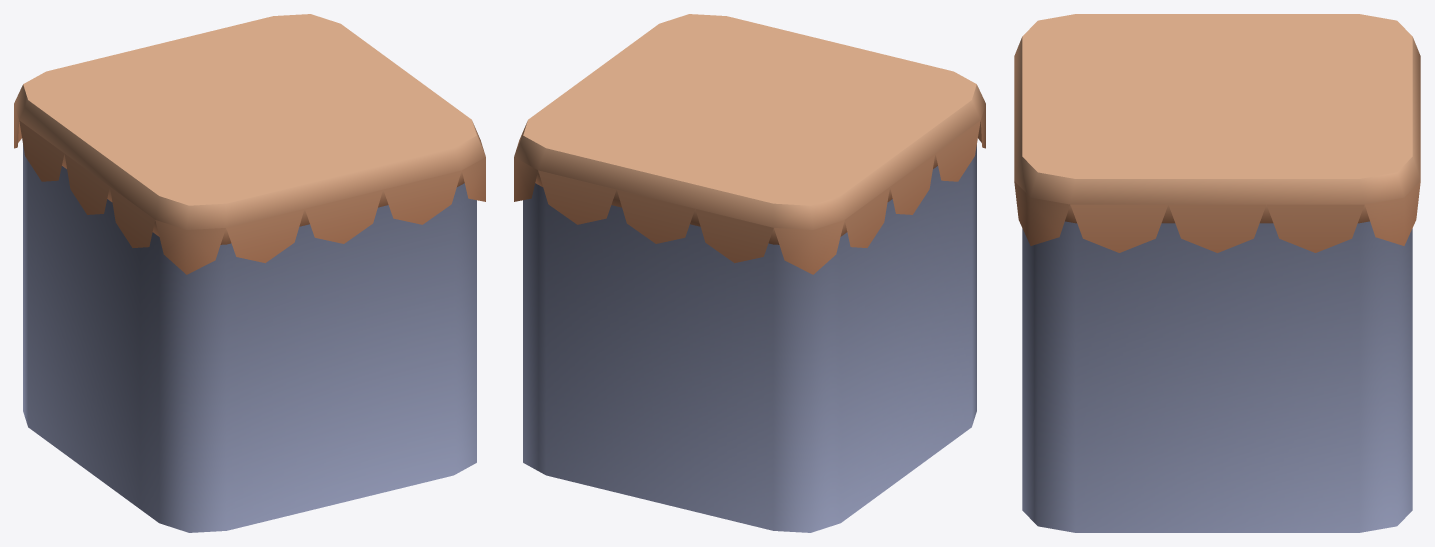
The model's file is block-grass-overhang-large-tall.glb.
3 renders of one model, left to right at view 1: azimuth 30°, elevation 25°; view 2: azimuth 150°, elevation 25°; view 3: azimuth 270°, elevation 25°, orthographic. The views are drawn at different scales.
Visible parts, largest first — view 1: block-grass-overhang-large-tall; view 2: block-grass-overhang-large-tall; view 3: block-grass-overhang-large-tall.
Boxes of the visible parts, x1=… form: block-grass-overhang-large-tall: x1=14, y1=14, x2=485, y2=532; block-grass-overhang-large-tall: x1=514, y1=14, x2=985, y2=532; block-grass-overhang-large-tall: x1=1014, y1=14, x2=1420, y2=532.
Bounding box in the file's own units: 2.08 × 2 × 2.08.
